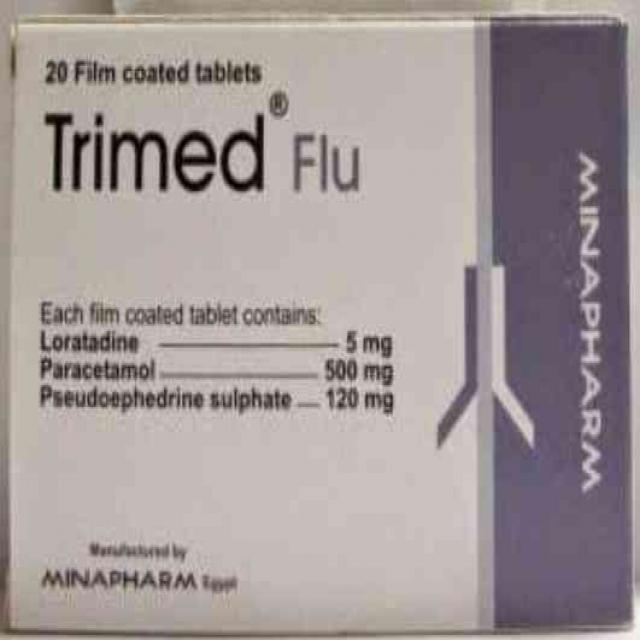drug-name: (37, 113, 269, 202)
